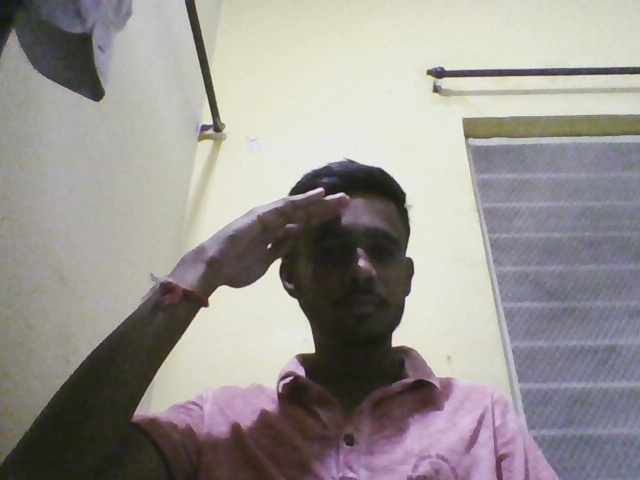thankyou: (148, 155, 404, 319)
